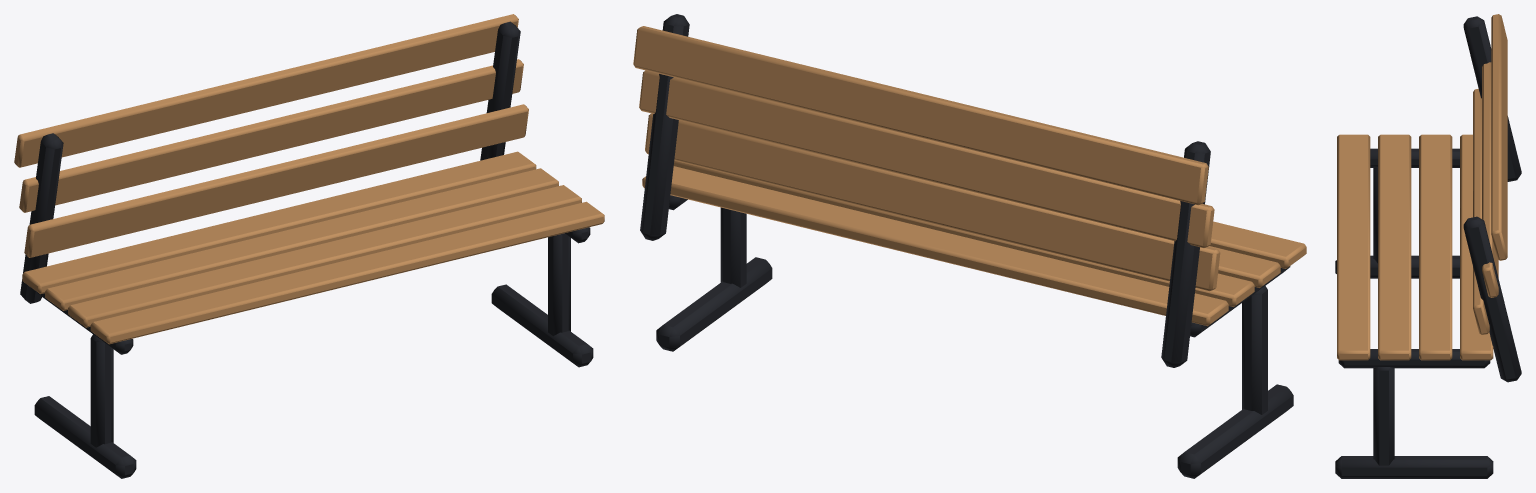
File: bench.glb
3 views of the same model, side by side, from view 1: azimuth 30°, elevation 25°; view 2: azimuth 150°, elevation 25°; view 3: azimuth 270°, elevation 25° (orthographic). The views are drawn at different scales.
Visible parts, largest first — view 1: bench; view 2: bench; view 3: bench.
Boxes of the visible parts, x1,y1,x2,y2 form: bench: [14, 14, 604, 478]; bench: [633, 14, 1306, 478]; bench: [1335, 14, 1521, 478].
Bounding box in the file's own units: 1.7 × 0.9412 × 0.6124.
